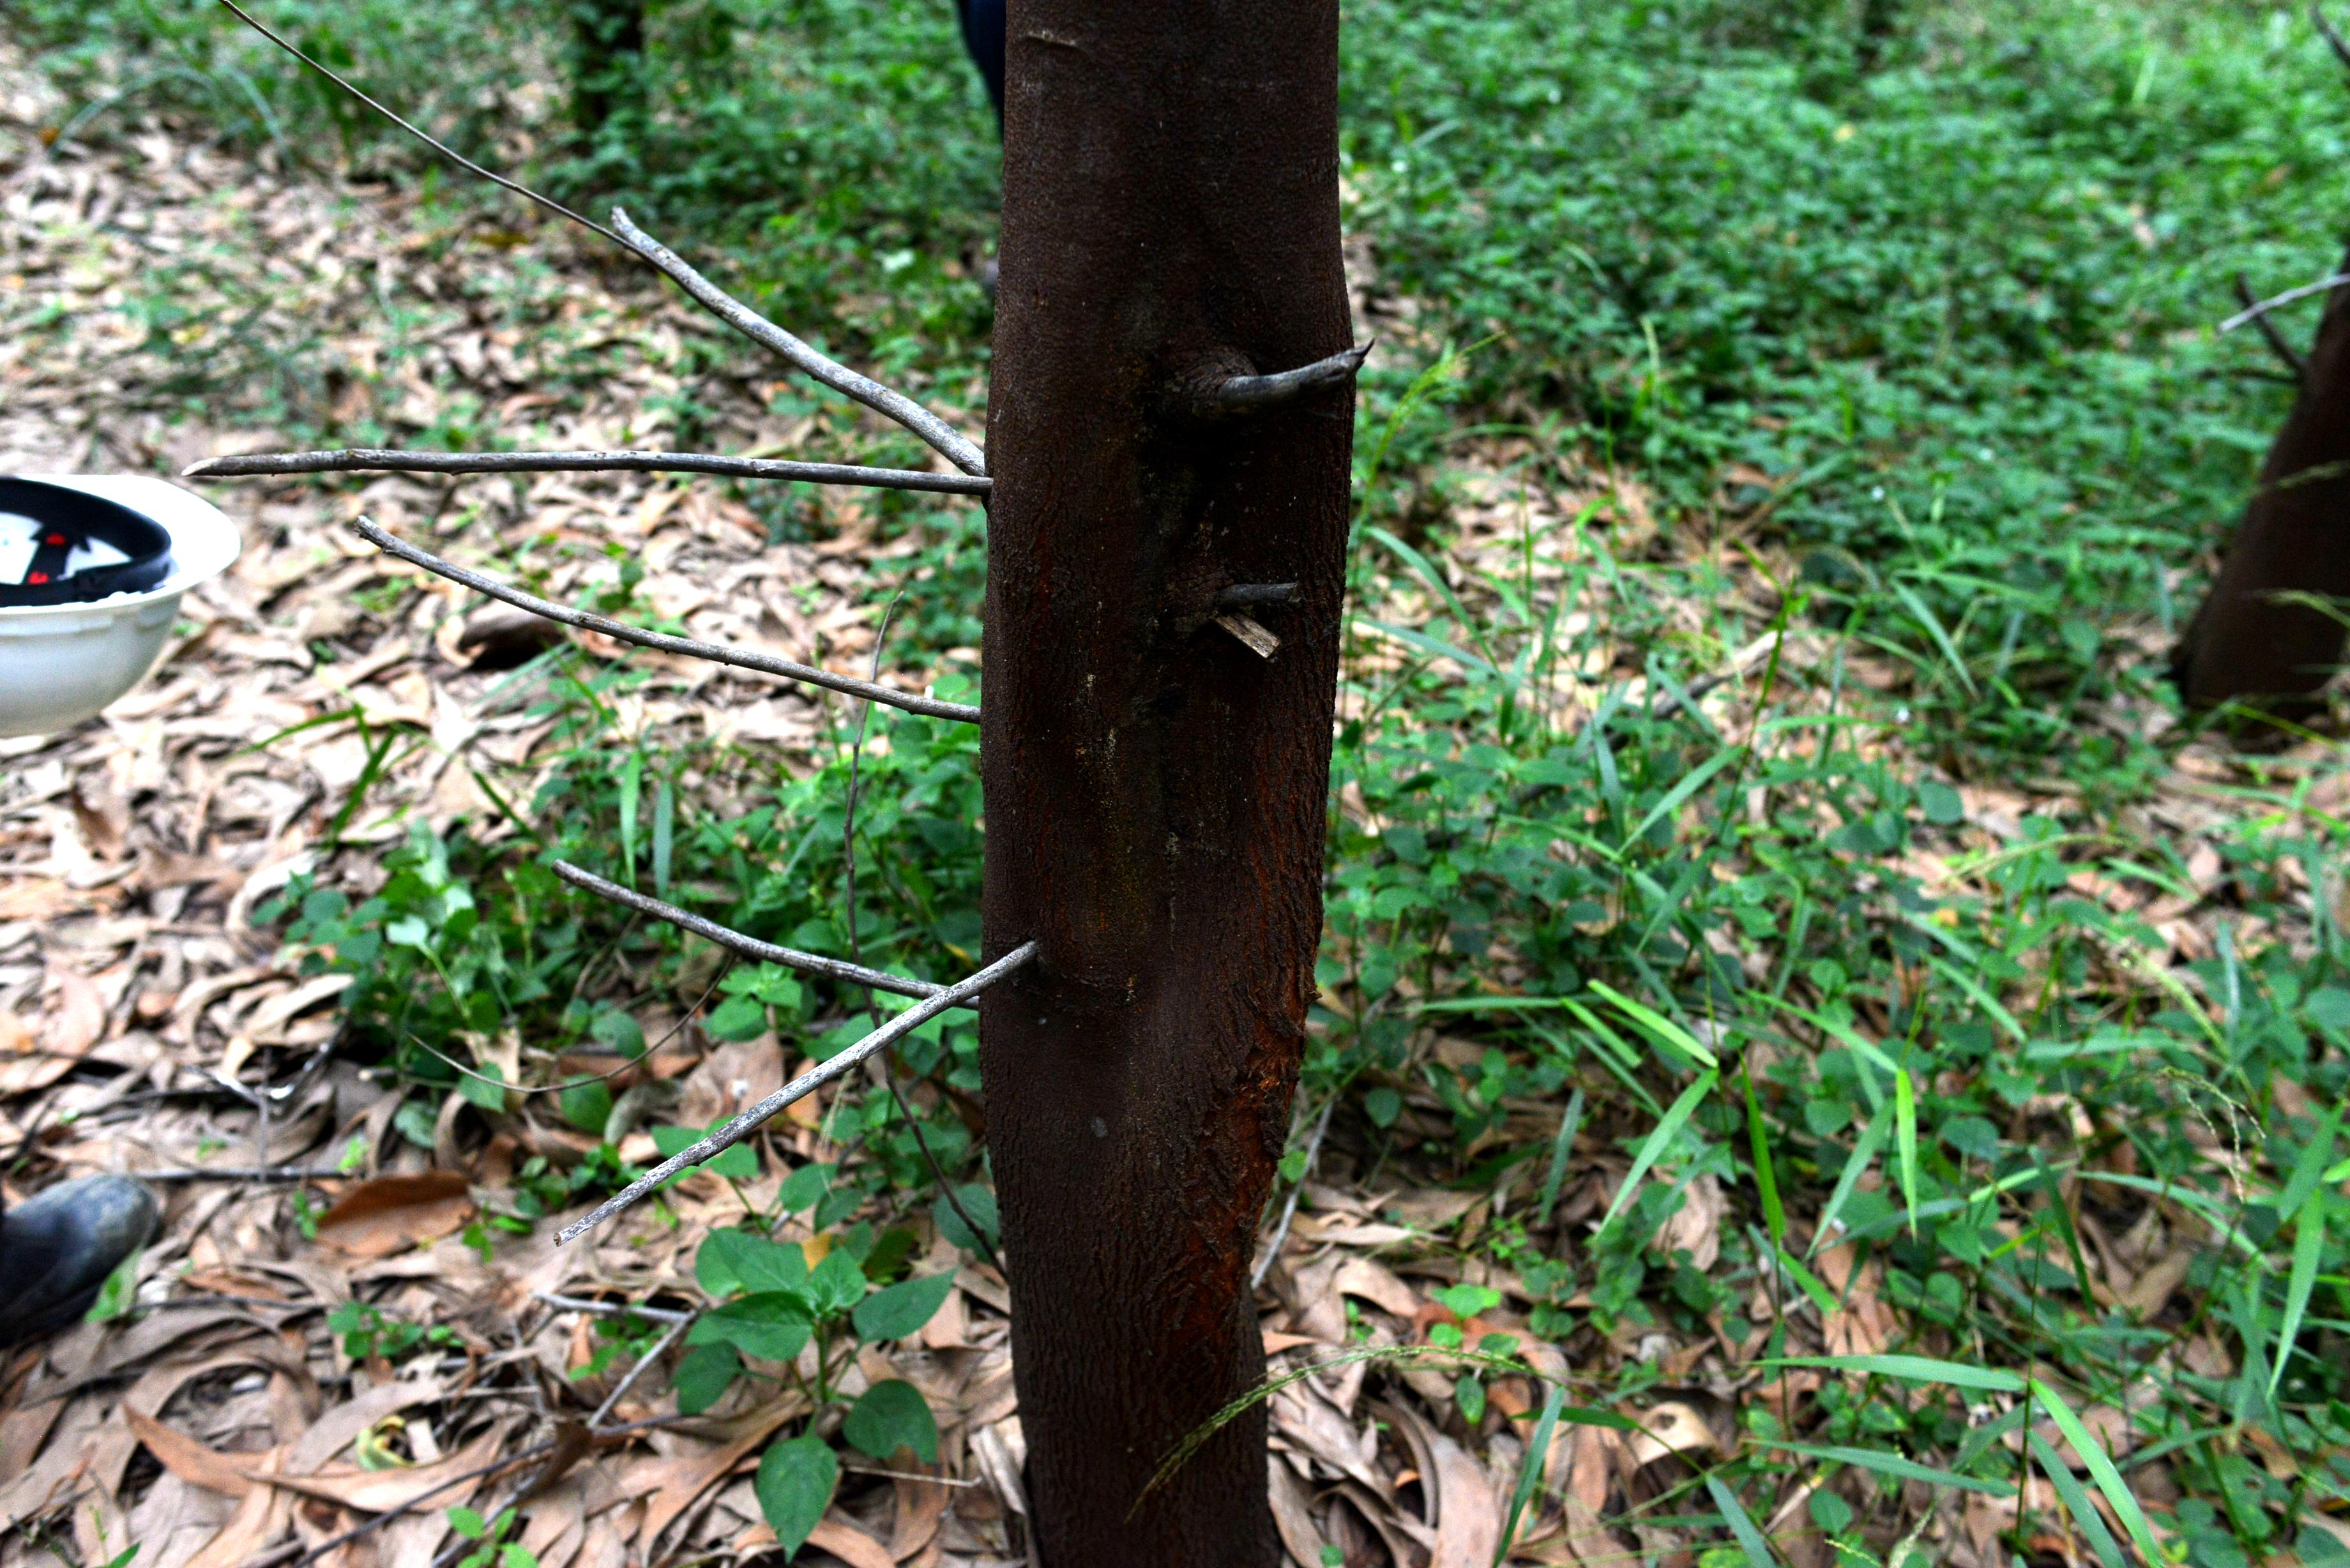Stem Deformation: (978, 0, 1347, 1568)
